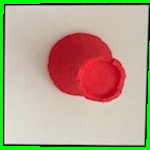Red Castle: (46, 31, 128, 106)
